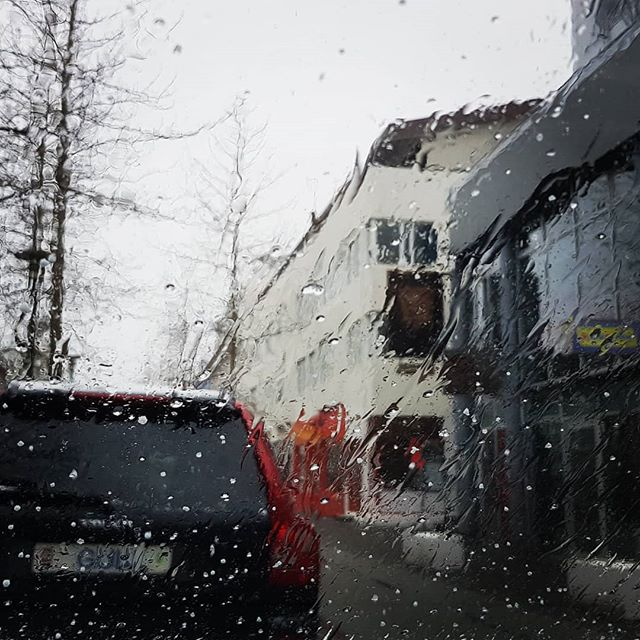building: (433, 1, 640, 620), (236, 97, 512, 523)
car: (10, 383, 326, 640)
sky: (40, 1, 595, 367)
tree: (2, 1, 148, 385)
